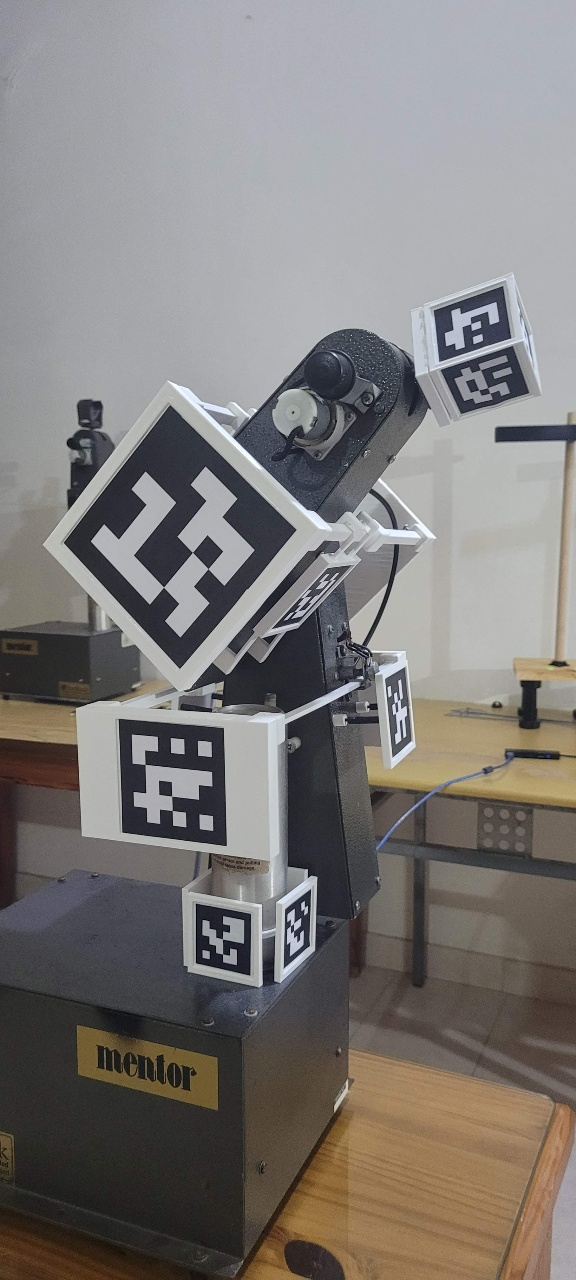Robot: (46, 200, 494, 971)
